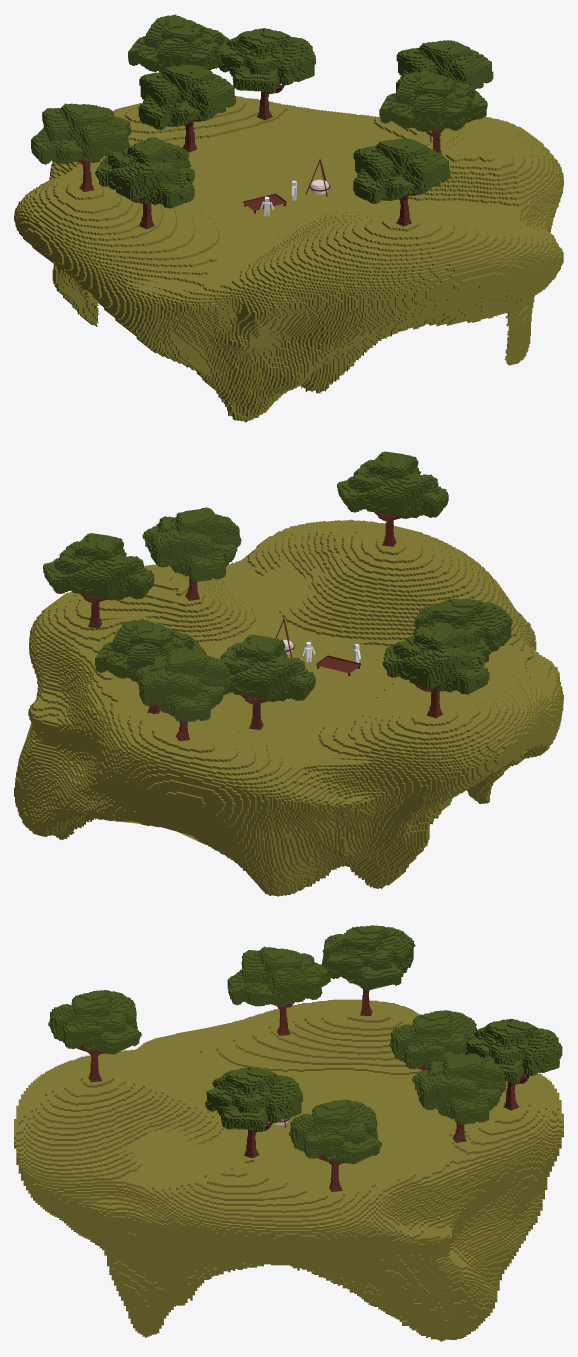
Rendered from min_scene.fbx.
3 views of the same model, one above another, from view 1: azimuth 30°, elevation 25°; view 2: azimuth 150°, elevation 25°; view 3: azimuth 270°, elevation 25° (orthographic). The views are drawn at different scales.
Visible parts, largest first — view 1: terrain, TreeCrone.008, TreeCrone.002, TreeCrone.007, TreeCrone.004, TreeCrone.005, TreeCrone.001, TreeCrone.003, TreeCrone.006; view 2: terrain, TreeCrone.004, TreeCrone.005, TreeCrone.007, TreeCrone.006, TreeCrone.003, TreeCrone.002, TreeCrone.001, TreeCrone.008; view 3: terrain, TreeCrone.001, TreeCrone.005, TreeCrone.008, TreeCrone.004, TreeCrone.007, TreeCrone.006, TreeCrone.003, TreeCrone.002.
Part boxes in pixels (x1,y1,x2,y2): terrain: [14, 96, 563, 422]; TreeCrone.008: [95, 137, 194, 208]; TreeCrone.002: [138, 64, 235, 130]; TreeCrone.007: [353, 138, 450, 203]; TreeCrone.004: [31, 103, 130, 164]; TreeCrone.005: [379, 70, 487, 131]; TreeCrone.001: [218, 28, 315, 93]; TreeCrone.003: [128, 14, 230, 72]; TreeCrone.006: [396, 40, 493, 91]; terrain: [14, 519, 563, 896]; TreeCrone.004: [382, 622, 489, 694]; TreeCrone.005: [142, 507, 241, 581]; TreeCrone.007: [337, 451, 448, 518]; TreeCrone.006: [43, 533, 154, 600]; TreeCrone.003: [135, 648, 231, 722]; TreeCrone.002: [220, 634, 315, 701]; TreeCrone.001: [95, 618, 206, 682]; TreeCrone.008: [413, 598, 512, 662]; terrain: [14, 999, 563, 1341]; TreeCrone.001: [412, 1053, 506, 1124]; TreeCrone.005: [205, 1067, 302, 1131]; TreeCrone.008: [227, 946, 330, 1006]; TreeCrone.004: [322, 925, 415, 989]; TreeCrone.007: [48, 990, 141, 1054]; TreeCrone.006: [289, 1099, 381, 1164]; TreeCrone.003: [465, 1019, 562, 1084]; TreeCrone.002: [389, 1010, 476, 1069].
Size of the model in its own units: 3236 by 1800 by 3293.
